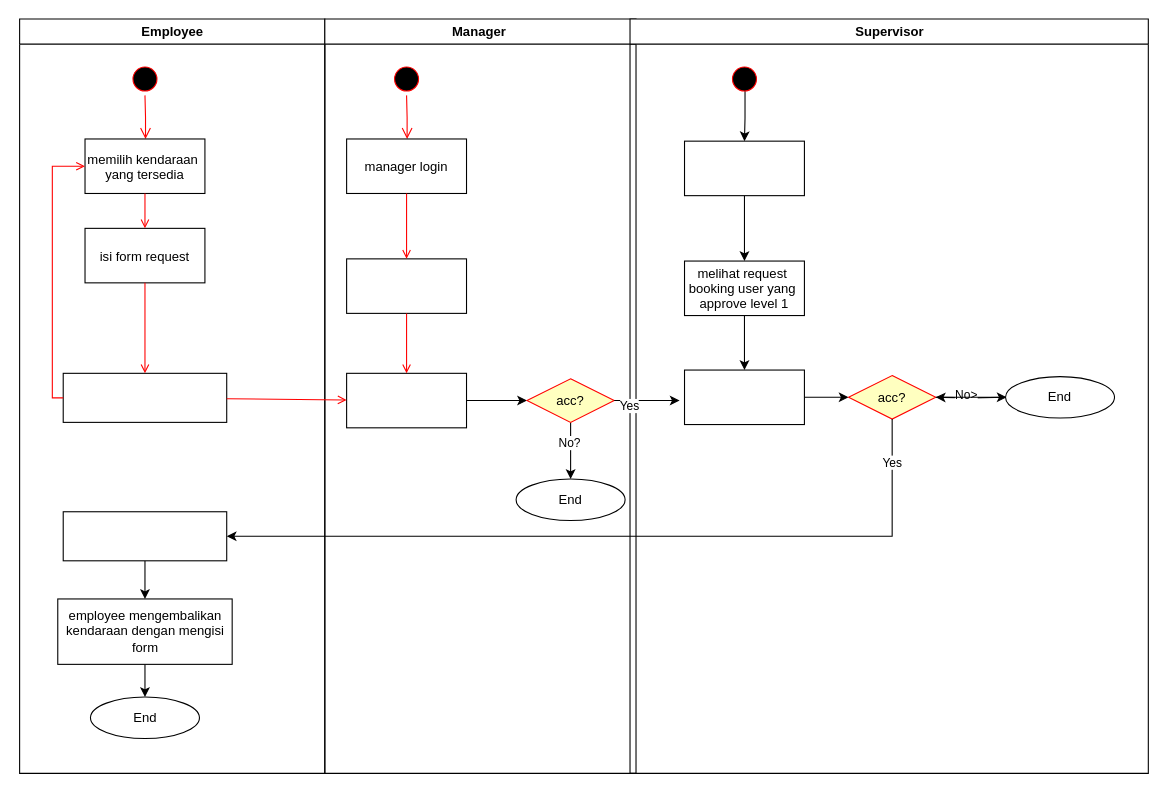
Some shapes in this 1167 by 792 pixel diagram are drawn without their labels. The shapes that lost their labels are listed below. From the top down, each one's centre as x and y in pixels, then its label:
(743,168): supervisor login
(406,285): melihat request booking user yang sedang pending
(144,397): menunggu persetujuan dari manager
(406,400): Approve Level 1 / Reject
(743,397): Approve Level 2 / Reject
(144,536): employee menggunakan kendaraan
